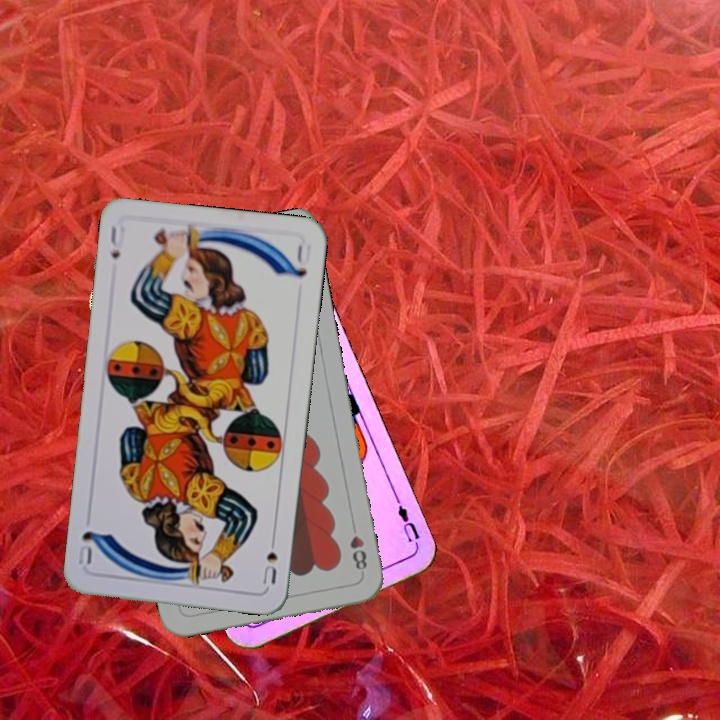EU: (392, 496, 422, 553)
H8: (346, 531, 370, 577)
SU: (259, 530, 280, 587), (106, 221, 128, 262)
